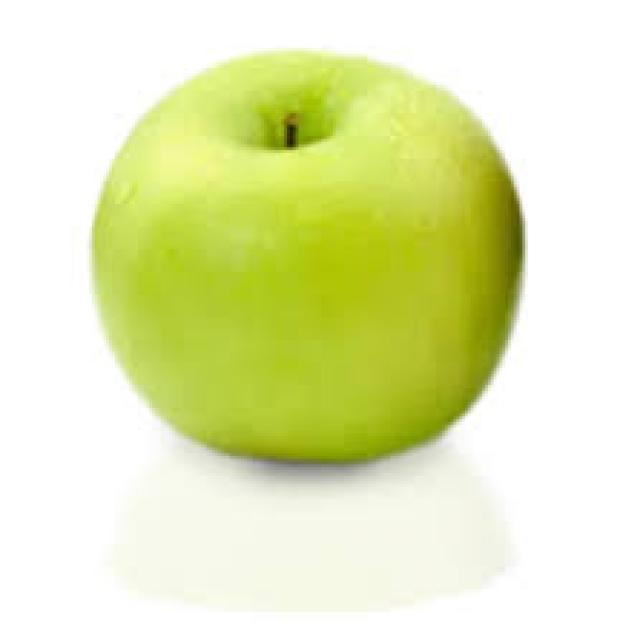apple: (82, 41, 544, 476)
